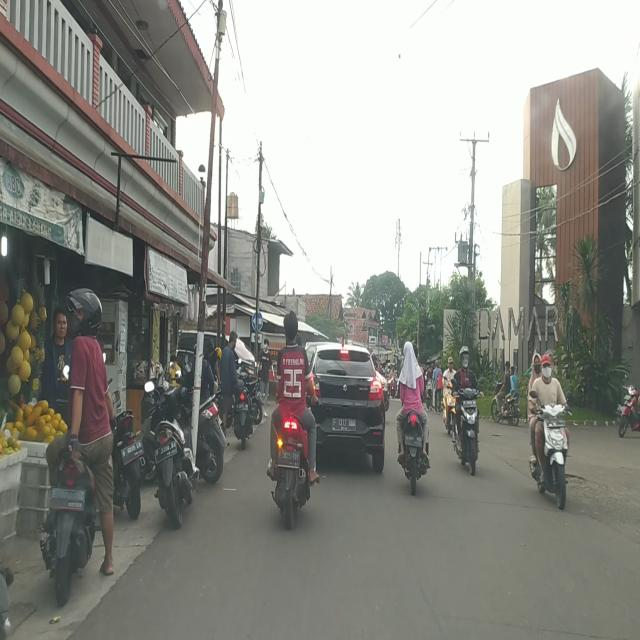Sewer Cover: (429, 604, 634, 638), (383, 489, 574, 515)
